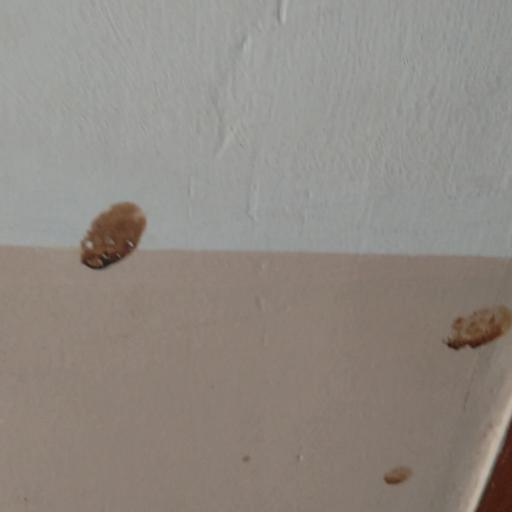stain: (62, 184, 196, 290), (430, 292, 512, 373), (236, 445, 322, 484), (369, 448, 431, 494)
